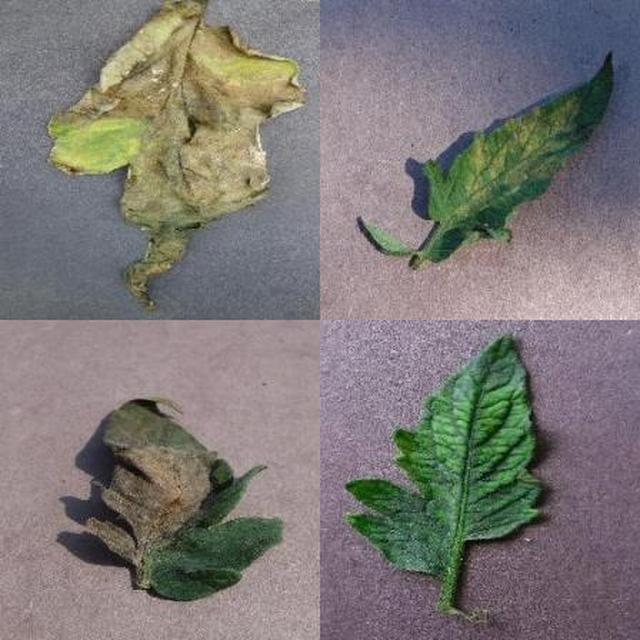Late Blight Leaf: (250, 223, 640, 640)
